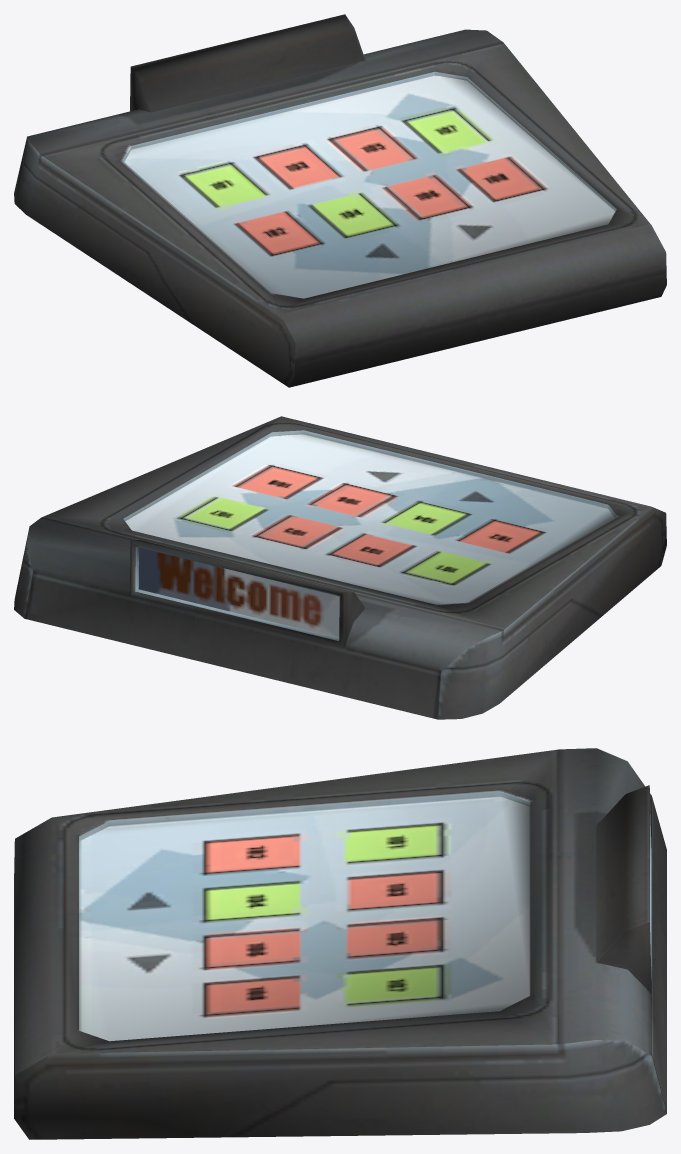
File: reception.glb
3 views of the same model, one above another, from view 1: azimuth 30°, elevation 25°; view 2: azimuth 150°, elevation 25°; view 3: azimuth 270°, elevation 25° (orthographic). The views are drawn at different scales.
Visible parts, largest first — view 1: Box01; view 2: Box01; view 3: Box01.
Part boxes in pixels (box(x1,y1,x2,y2)): Box01: box(14, 14, 666, 387); Box01: box(14, 416, 666, 719); Box01: box(14, 748, 666, 1139).
Bounding box in the file's own units: 32.87 × 8.5 × 30.03.
1 material, 1 textured.
